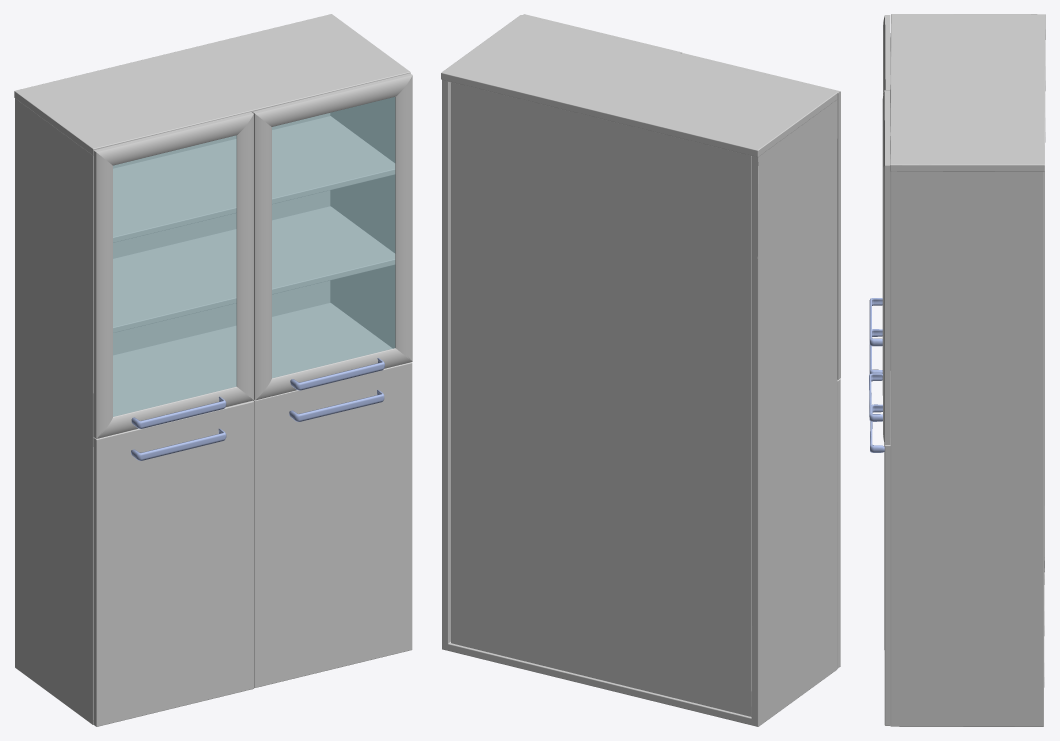
Rendered from Regal.fbx.
3 renders of one model, left to right at view 1: azimuth 30°, elevation 25°; view 2: azimuth 150°, elevation 25°; view 3: azimuth 270°, elevation 25°, orthographic. The views are drawn at different scales.
Parts seen in each view (by area): view 1: Object006; view 2: Object006; view 3: Object006.
Boxes of the visible parts, x1=… form: Object006: x1=14, y1=14, x2=412, y2=726; Object006: x1=441, y1=14, x2=840, y2=726; Object006: x1=869, y1=14, x2=1045, y2=726.
Bounding box in the file's own units: 93.3 × 162 × 46.14.
